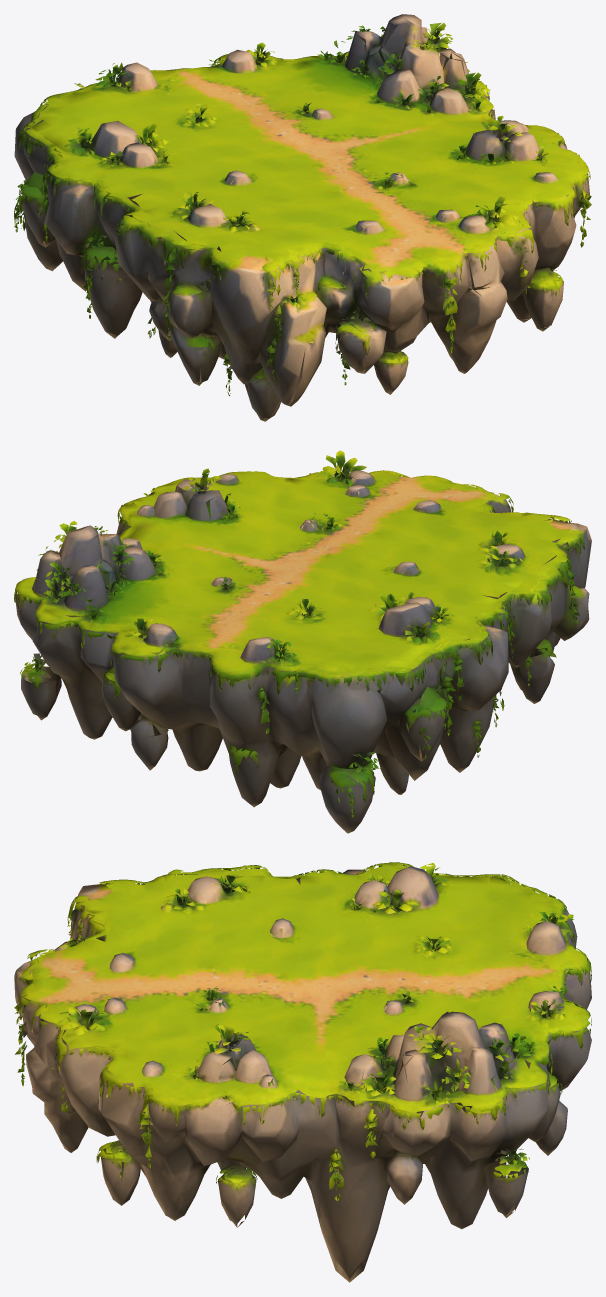
The model's file is Isla_flotante_2.glb.
3 views of the same model, one above another, from view 1: azimuth 30°, elevation 25°; view 2: azimuth 150°, elevation 25°; view 3: azimuth 270°, elevation 25° (orthographic). The views are drawn at different scales.
Visible parts, largest first — view 1: tripo_node_f3e6083e-0156-4054-b88c-9589aacb6ae2; view 2: tripo_node_f3e6083e-0156-4054-b88c-9589aacb6ae2; view 3: tripo_node_f3e6083e-0156-4054-b88c-9589aacb6ae2.
Part boxes in pixels (bbox=[...]): tripo_node_f3e6083e-0156-4054-b88c-9589aacb6ae2: bbox=[14, 14, 591, 421]; tripo_node_f3e6083e-0156-4054-b88c-9589aacb6ae2: bbox=[14, 450, 591, 833]; tripo_node_f3e6083e-0156-4054-b88c-9589aacb6ae2: bbox=[14, 862, 591, 1282].
Bounding box in the file's own units: 0.9497 × 0.522 × 0.9995.
1 material, 1 textured.
